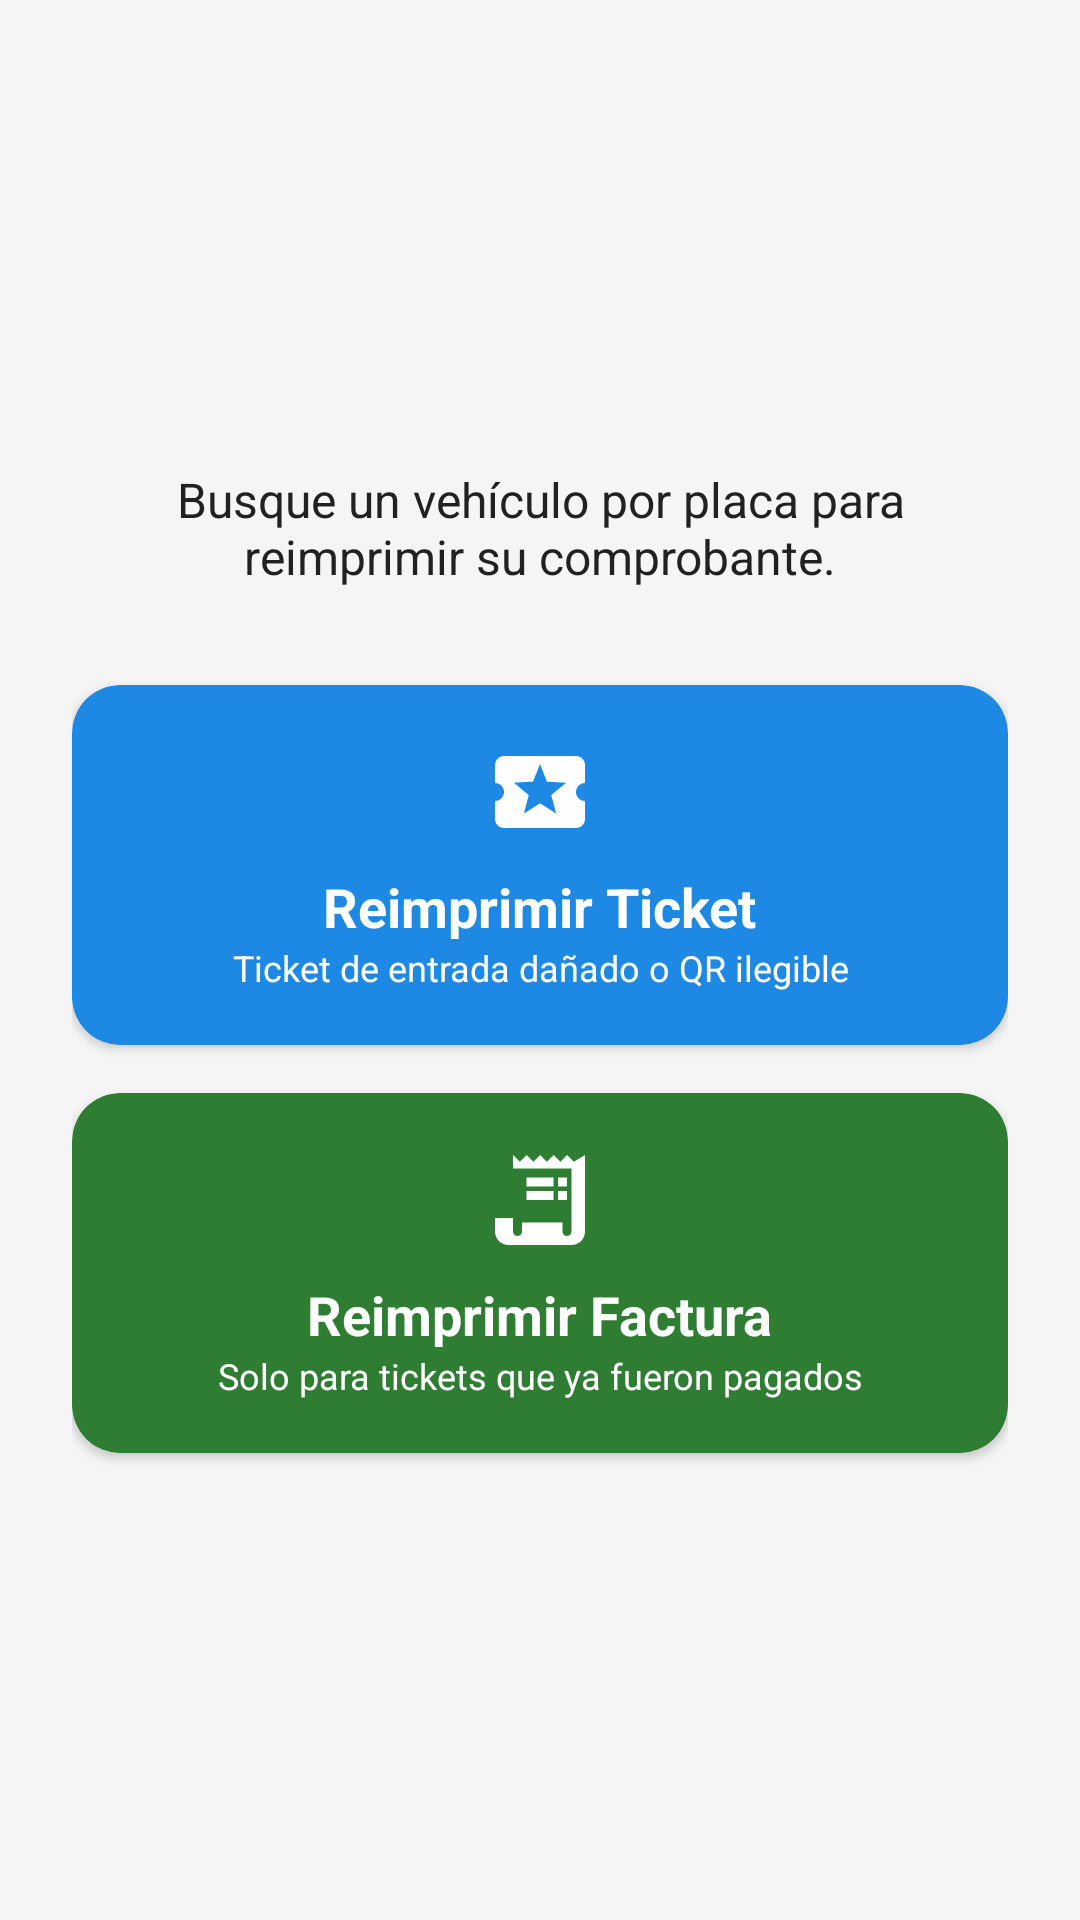

Screen size 1080×1920. Icon name, then its center in pixels as (x=x, y=y):
receipt: (x=540, y=1200)
